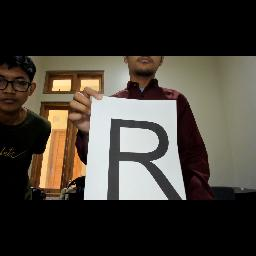r: (104, 116, 198, 200)
